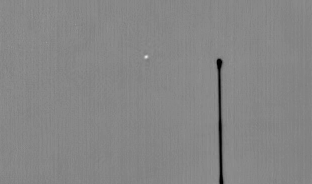Target: (145, 56, 148, 59)
